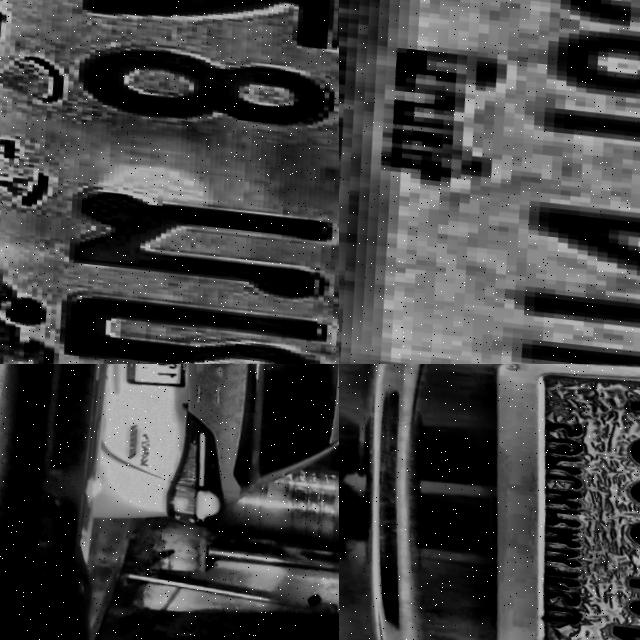license-plate: (0, 0, 339, 364), (339, 0, 640, 364), (448, 364, 640, 640), (114, 364, 193, 390)
